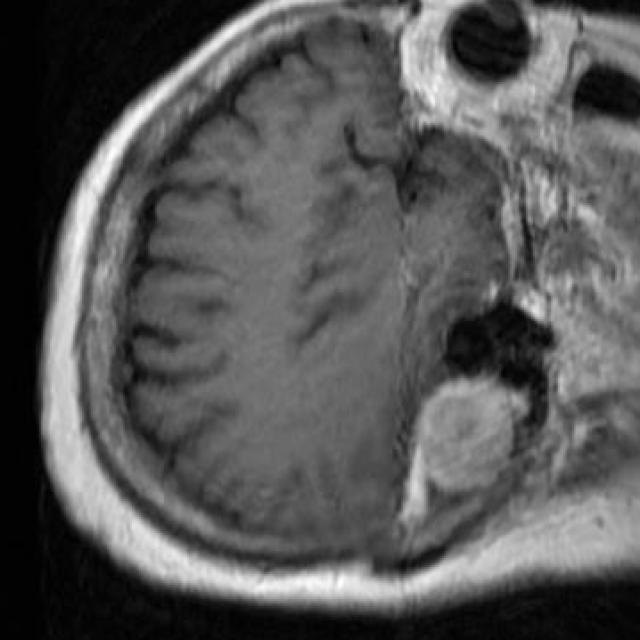meningioma: (421, 378, 529, 494)
